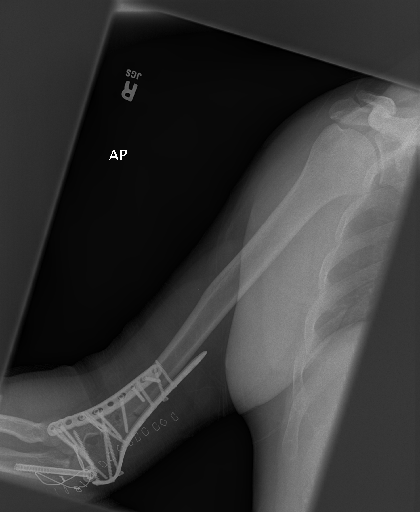implant: (48, 350, 210, 487)
